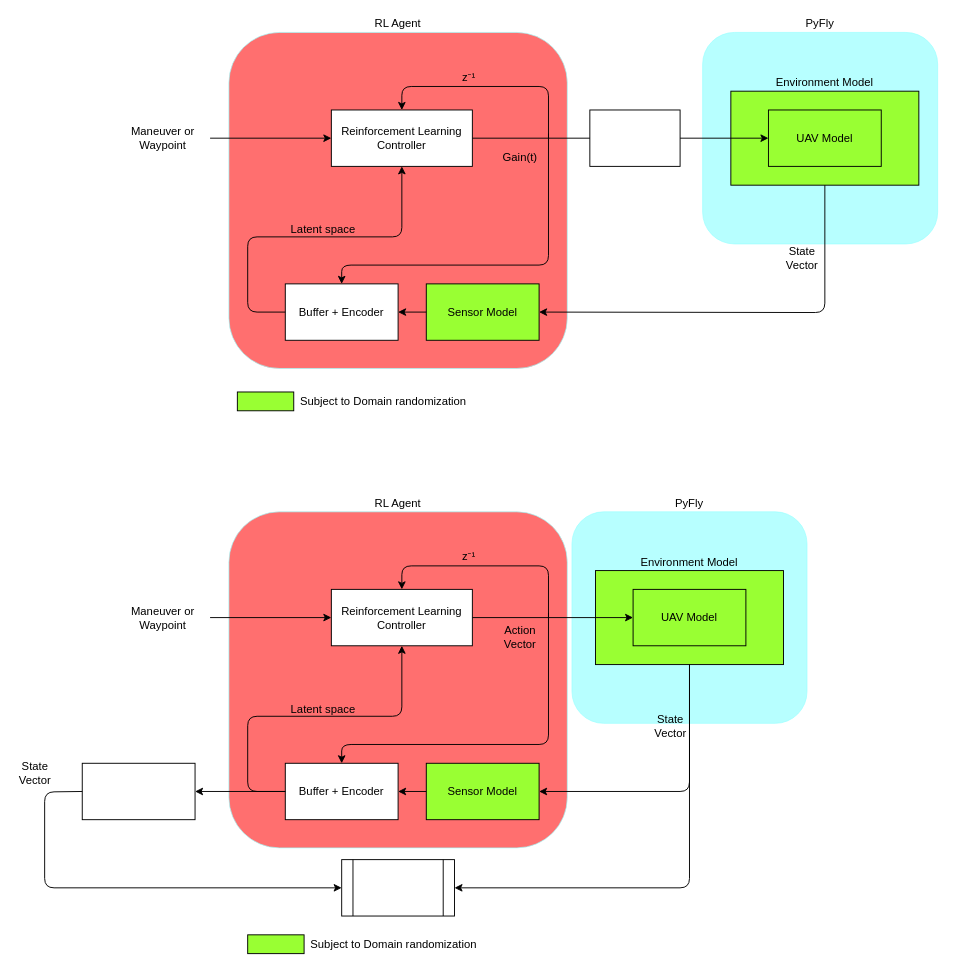
Image size: 954x970. Some labels were removed from this diagram. The shapes that lost their labels are listed below. From the top down, each one's centre as x and y in pixels, then its label:
At point 634,137: "PID Controller".
At point 138,791: "Decoder".
At point 397,887: "L reconstr".
